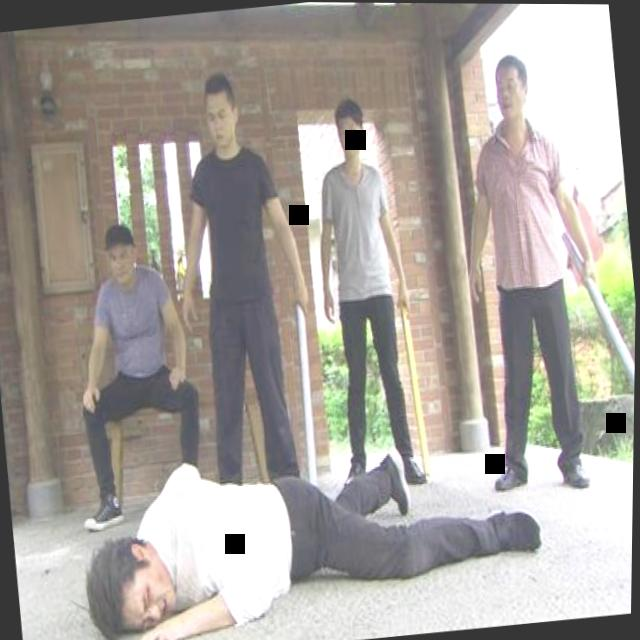Fall-Detected: (57, 404, 563, 640)
